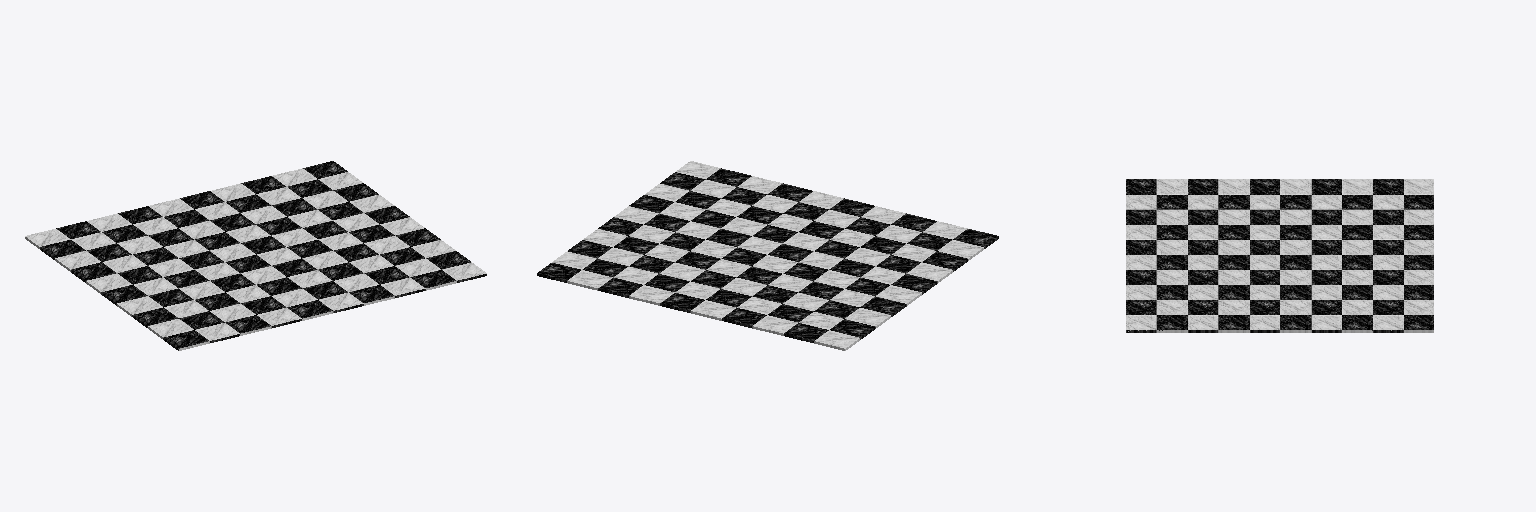
3 views of the same model, side by side, from view 1: azimuth 30°, elevation 25°; view 2: azimuth 150°, elevation 25°; view 3: azimuth 270°, elevation 25° (orthographic).
Parts seen in each view (by area): view 1: Plane002; view 2: Plane002; view 3: Plane002.
Boxes of the visible parts, x1=… form: Plane002: x1=25, y1=161, x2=486, y2=350; Plane002: x1=537, y1=161, x2=998, y2=350; Plane002: x1=1126, y1=179, x2=1433, y2=332.
Size of the model in its own units: 1555 by 11.85 by 1343.
Materials: 1 (1 with a texture image).